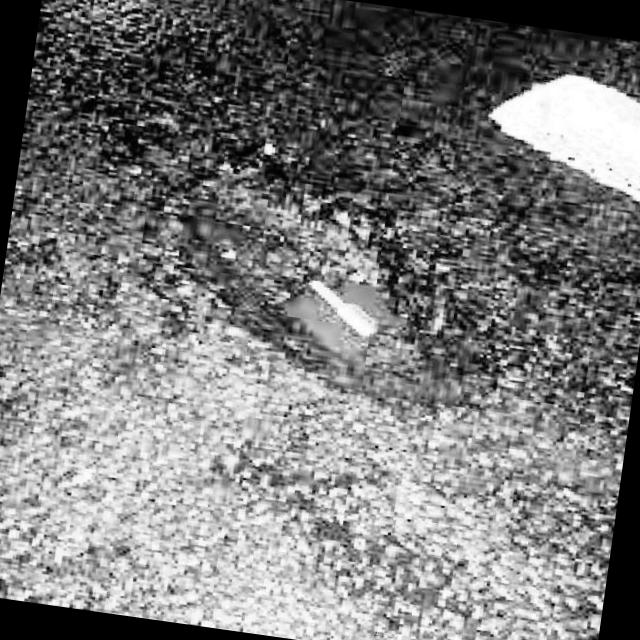Pothole: (160, 155, 497, 414)
